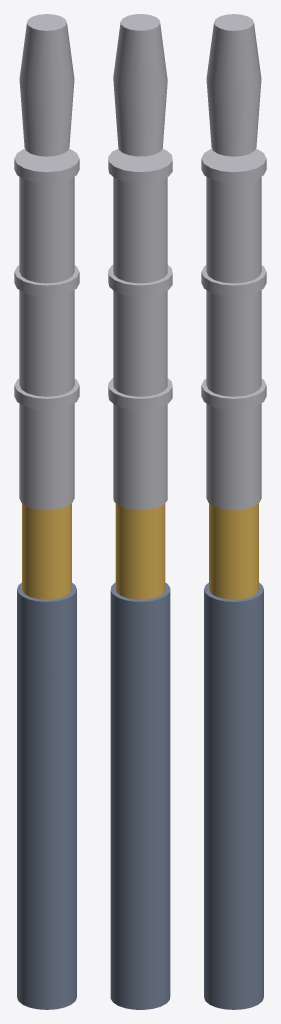
Rendered from esp_pump.glb.
3 renders of one model, left to right at view 1: azimuth 90°, elevation 25°; view 2: azimuth 150°, elevation 25°; view 3: azimuth 270°, elevation 25°, orthographic.
Parts seen in each view (by area): view 1: esp_pump; view 2: esp_pump; view 3: esp_pump.
Part boxes in pixels (x1,y1,x2,y2): esp_pump: (14, 14, 79, 1009); esp_pump: (108, 14, 172, 1009); esp_pump: (201, 14, 266, 1009).
Size of the model in its own units: 0.26 by 4.3 by 0.26.
